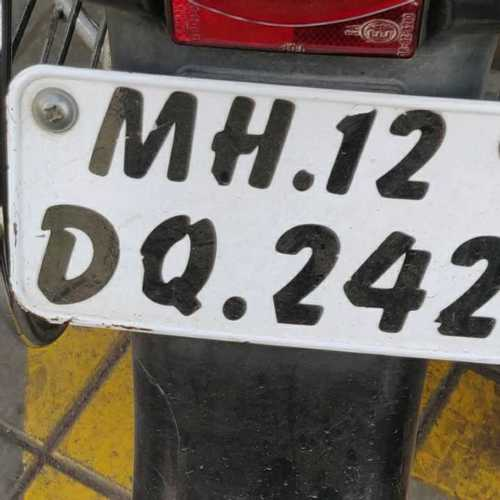doublelinenumberplate: (5, 63, 500, 364)
